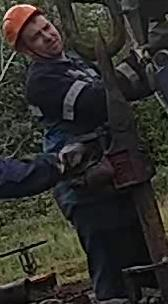gloves: (50, 141, 104, 178)
helmet: (0, 3, 44, 50)
vest: (25, 56, 105, 190)
